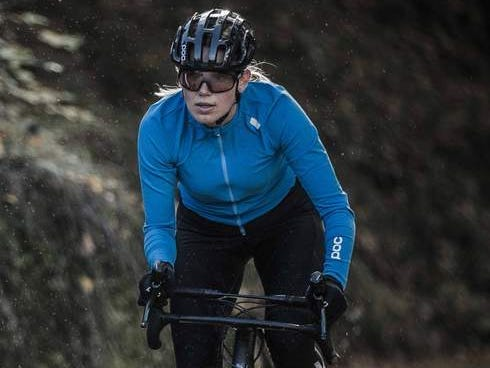helmet: (170, 8, 256, 123)
